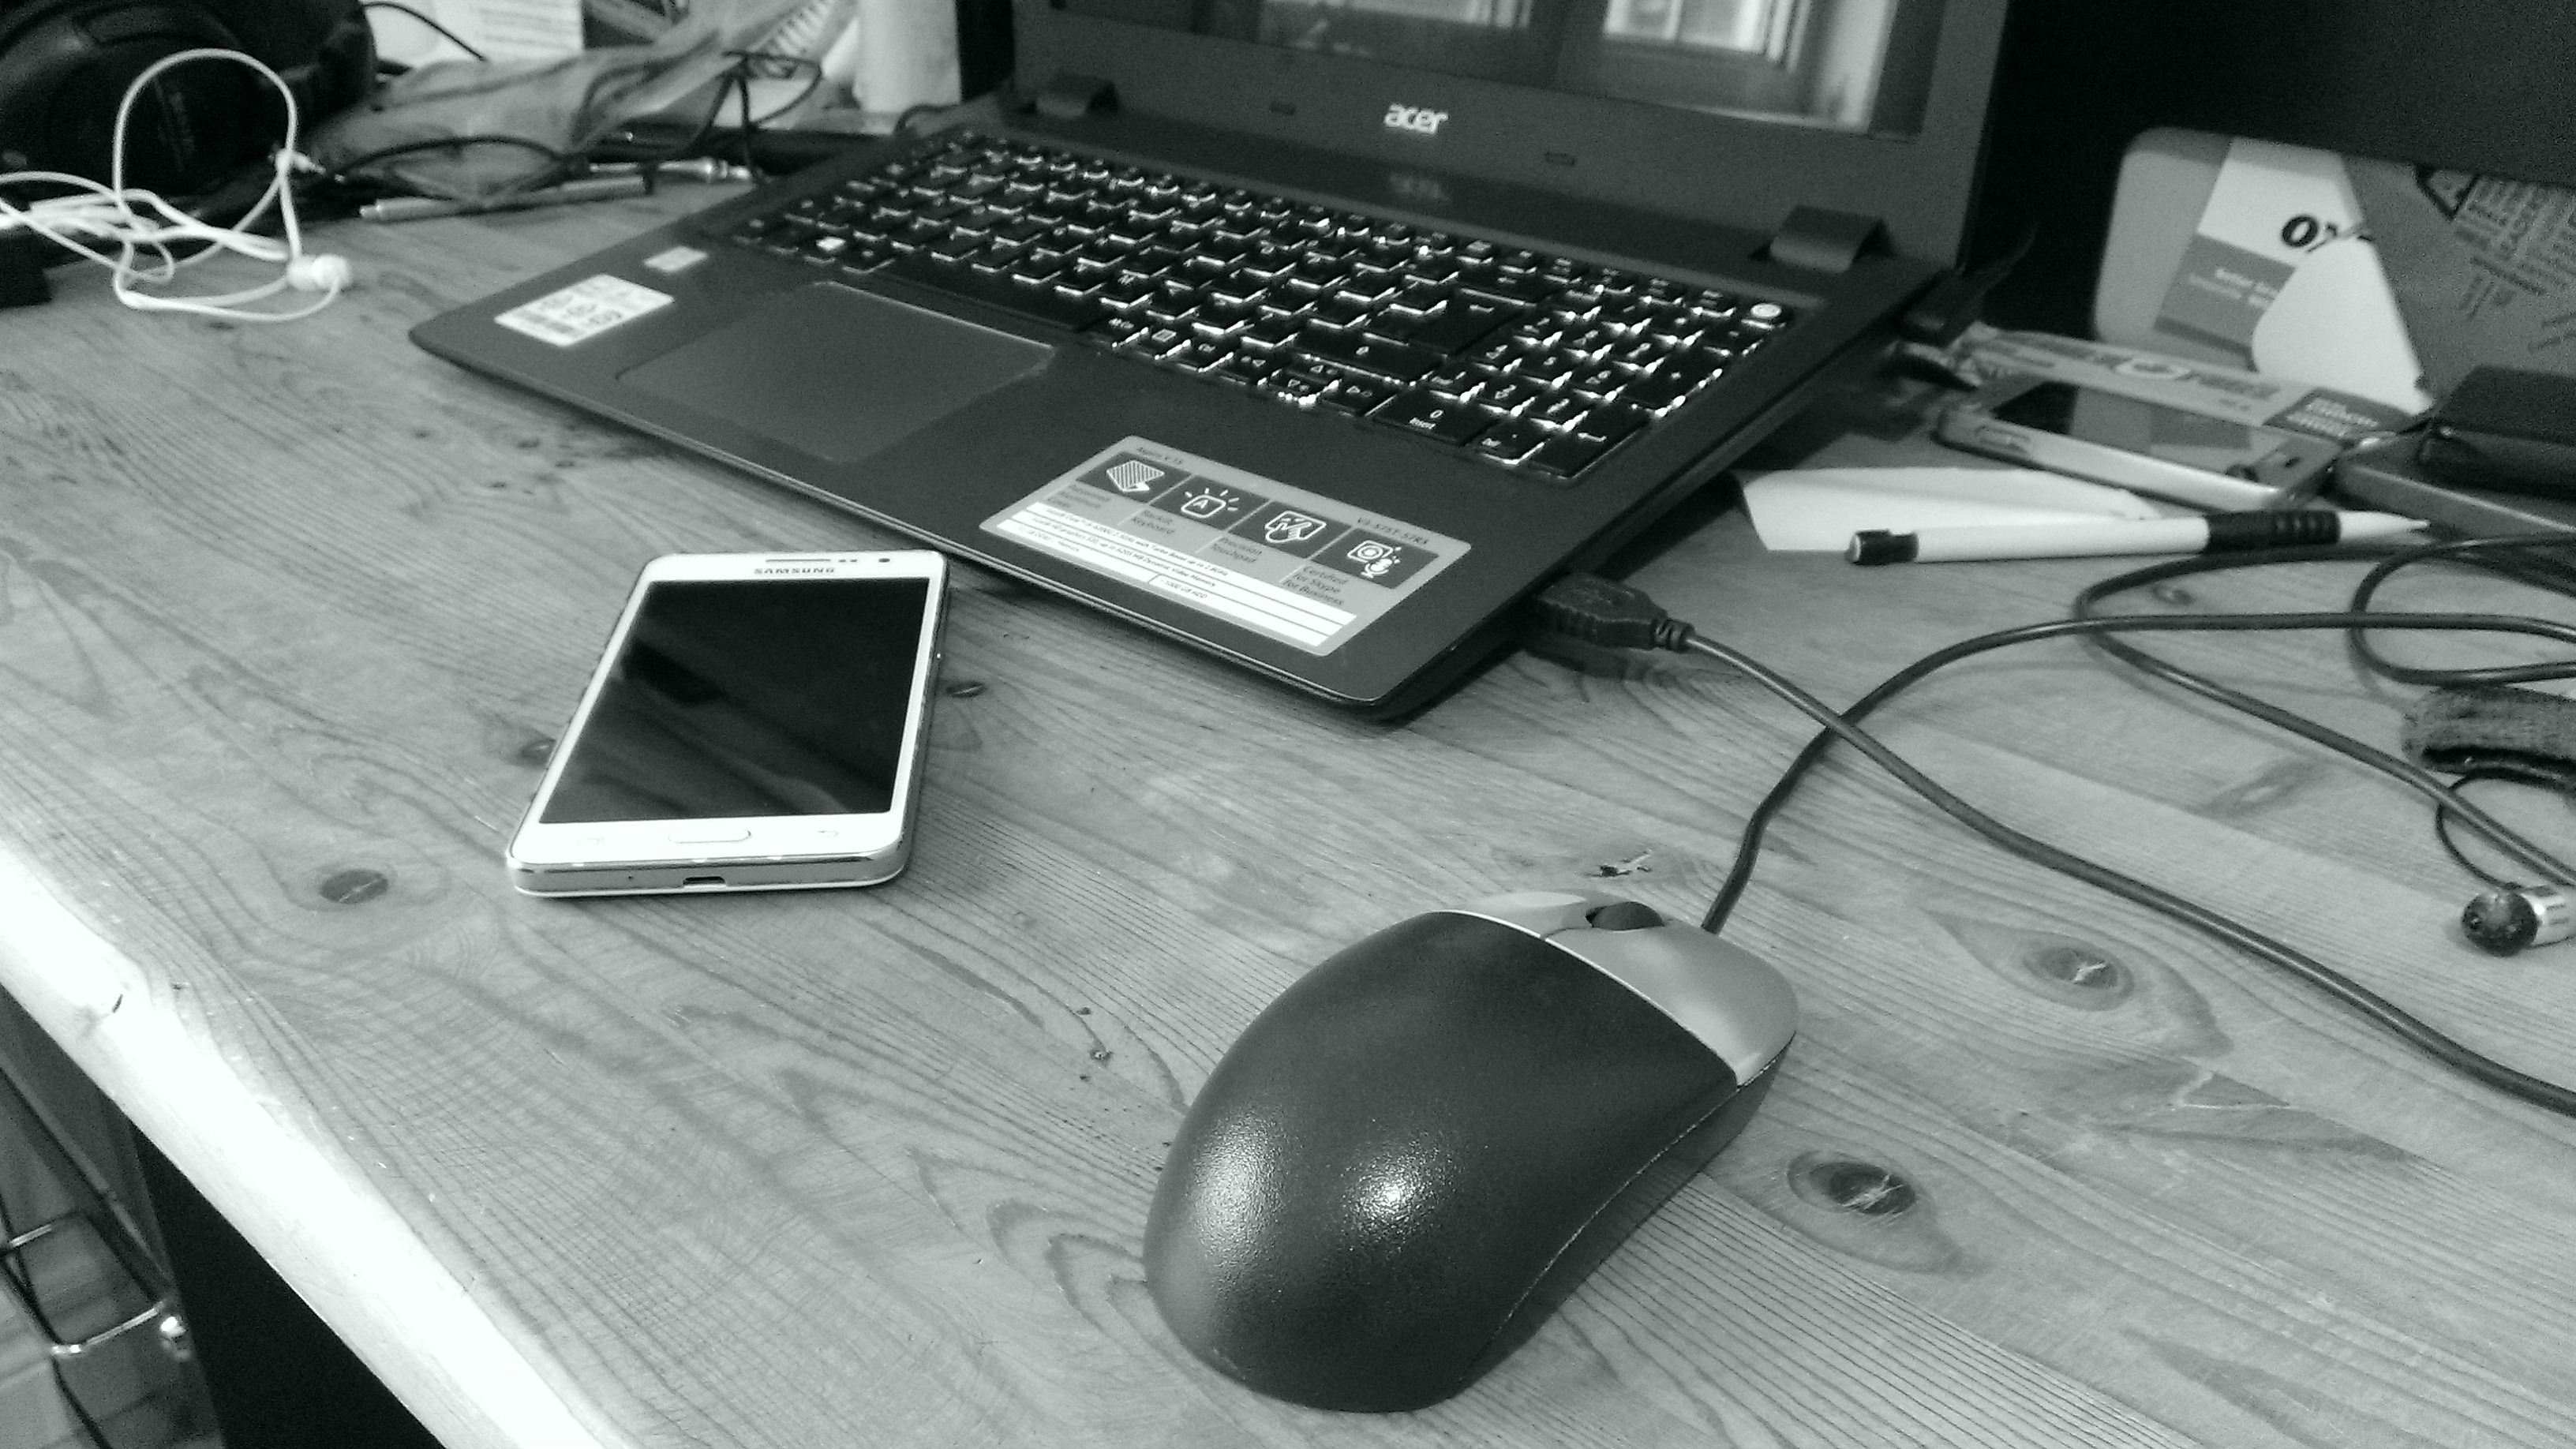mouse: (1123, 872, 1801, 1419)
